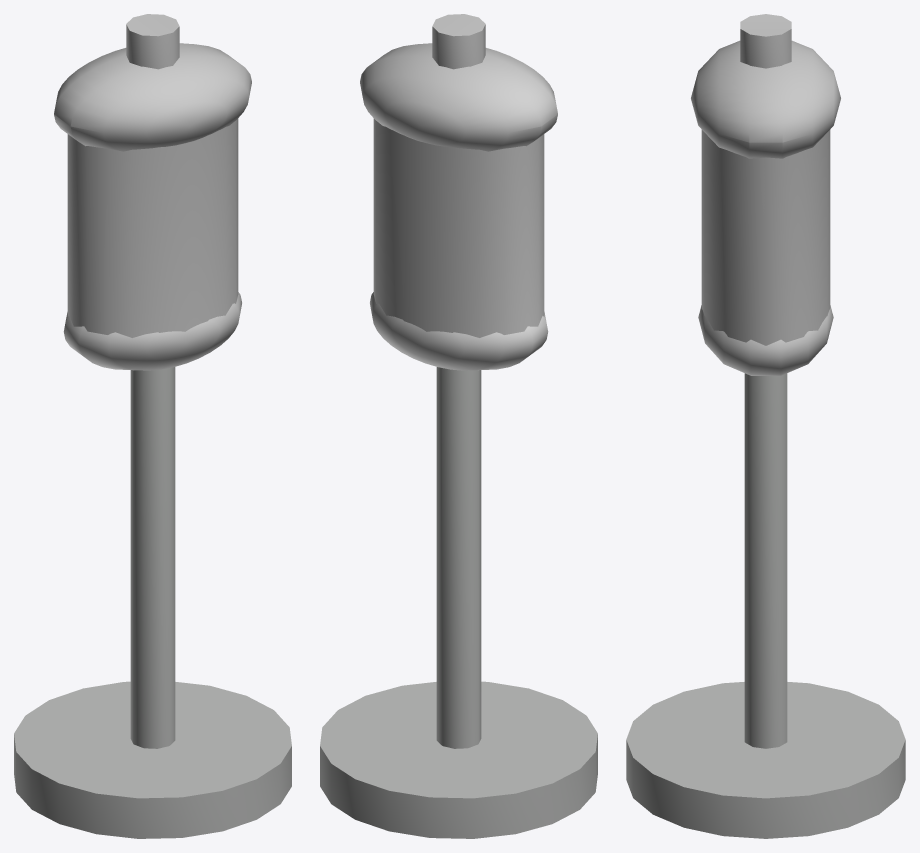
Rendered from Building_Building_KidOutfitStand.obj.
The picture shows the model from 3 angles, left to right: view 1: azimuth 30°, elevation 25°; view 2: azimuth 150°, elevation 25°; view 3: azimuth 270°, elevation 25°; orthographic projection.
Visible parts, largest first — view 1: Body; view 2: Body; view 3: Body.
Part boxes in pixels (x1,y1,x2,y2): Body: [14, 14, 291, 838]; Body: [320, 14, 597, 838]; Body: [626, 14, 905, 838].
Bounding box in the file's own units: 0.3744 × 1.12 × 0.3744.
1 material, 1 textured.
